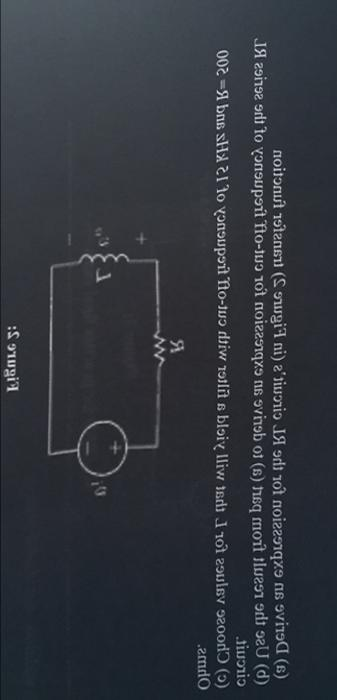Battery: (67, 403, 150, 486)
